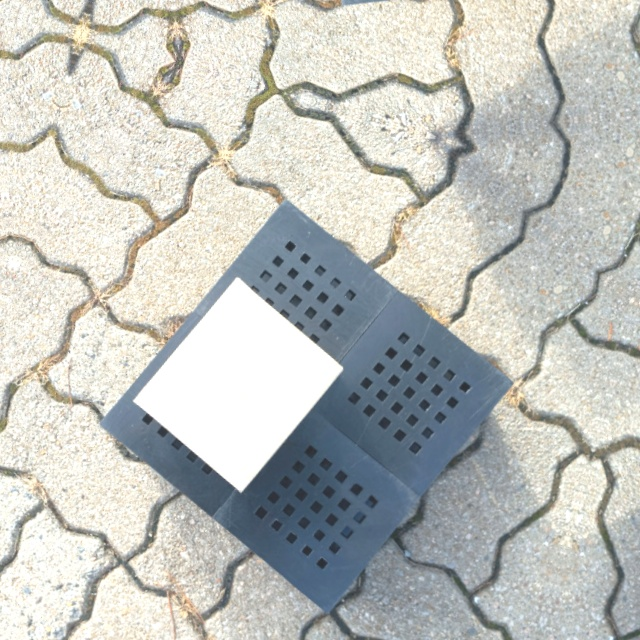box: (126, 264, 348, 503)
pallet: (86, 192, 522, 624)
